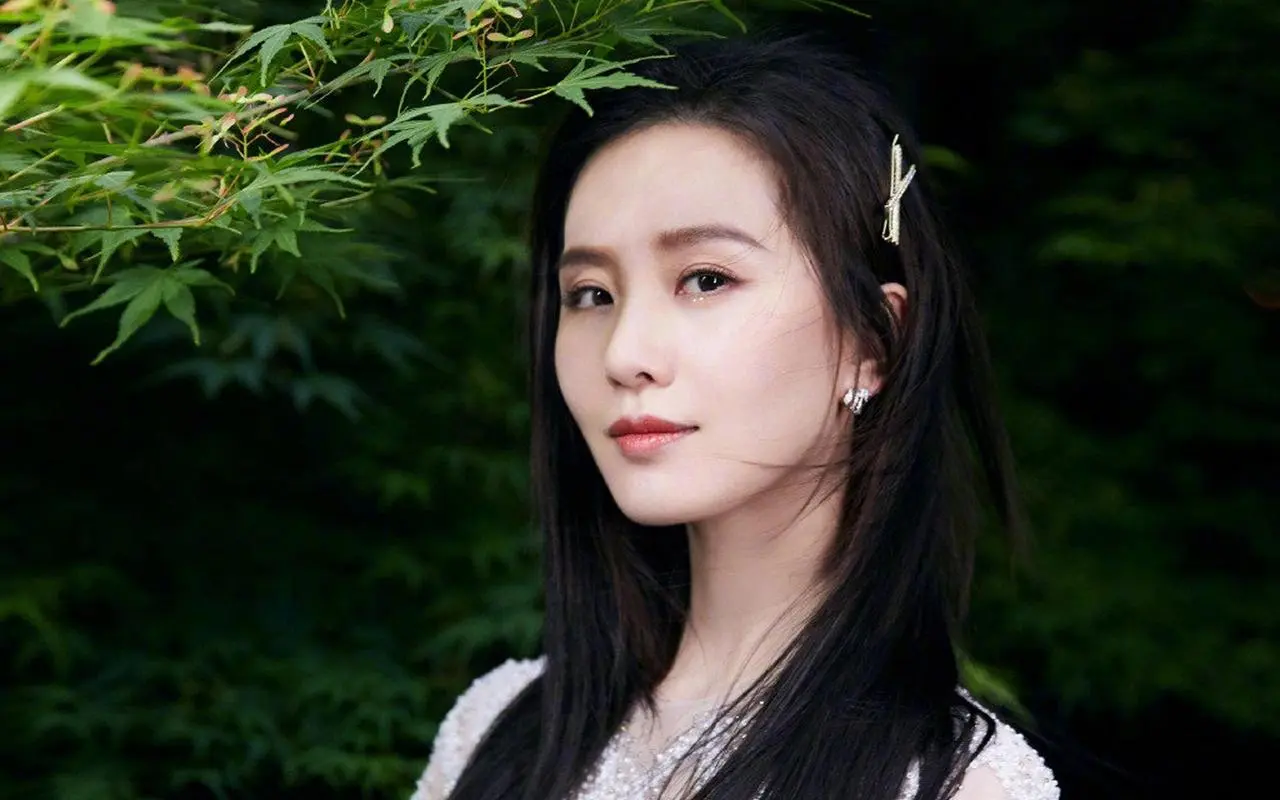withoutmask: (511, 89, 921, 536)
